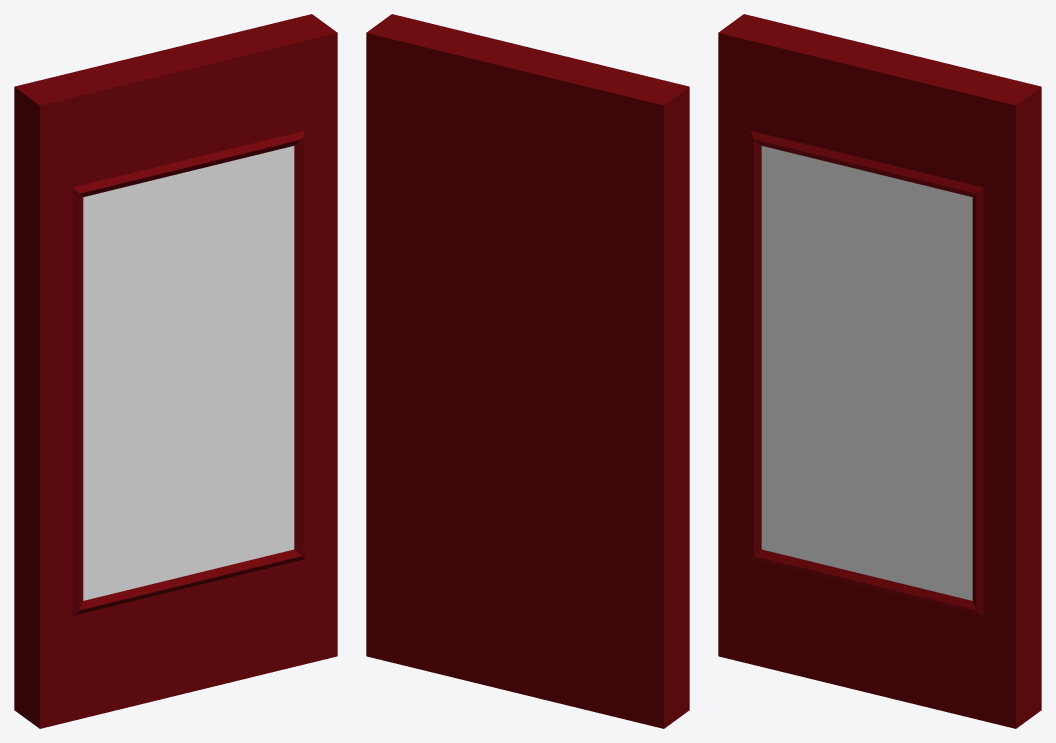
The model's file is RedGalleryInfo.glb.
The picture shows the model from 3 angles, left to right: view 1: azimuth 30°, elevation 25°; view 2: azimuth 150°, elevation 25°; view 3: azimuth 330°, elevation 25°; orthographic projection.
Visible parts, largest first — view 1: galleryInfo_Red; view 2: galleryInfo_Red; view 3: galleryInfo_Red.
Part boxes in pixels (box(x1,y1,x2,y2)): galleryInfo_Red: box(14, 14, 337, 728); galleryInfo_Red: box(366, 14, 689, 728); galleryInfo_Red: box(718, 14, 1041, 728).
Size of what is drawn, in the model's own units: 2 by 4 by 0.3245.
1 material, 1 textured.
